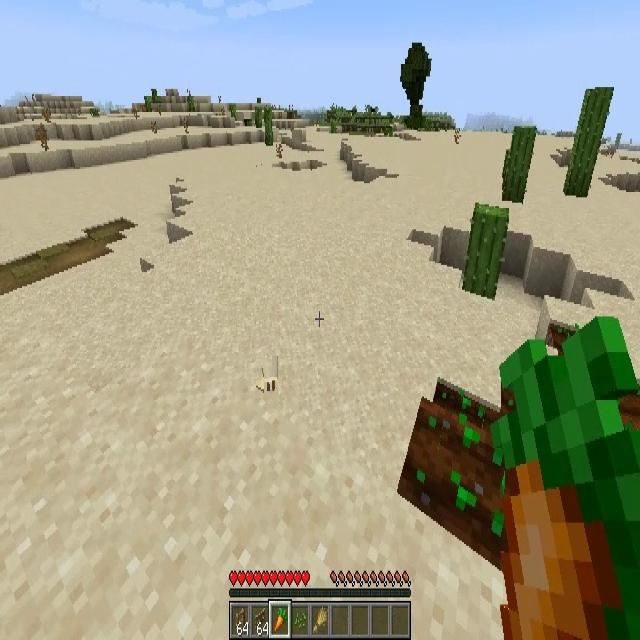rabbit: (254, 360, 281, 409)
